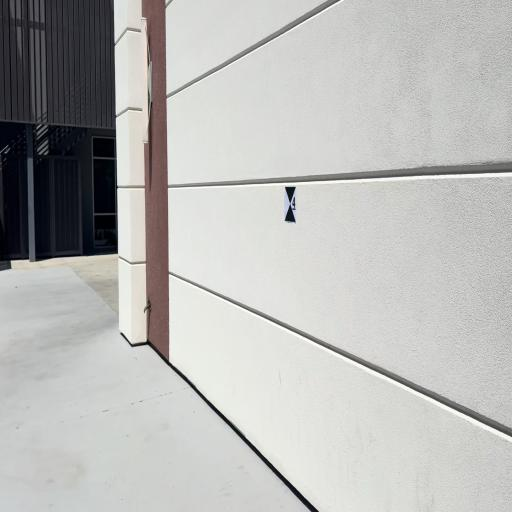target4: (284, 187, 297, 223)
